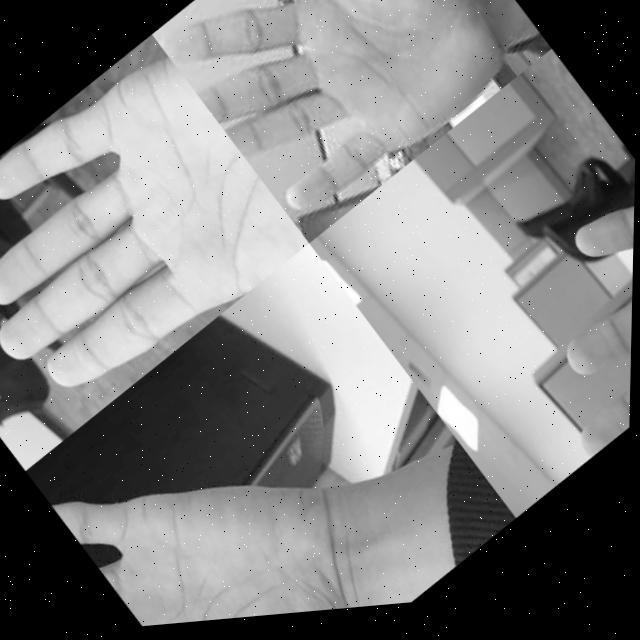hand: (0, 24, 313, 442), (30, 336, 402, 637), (147, 0, 529, 254), (466, 172, 636, 478)
